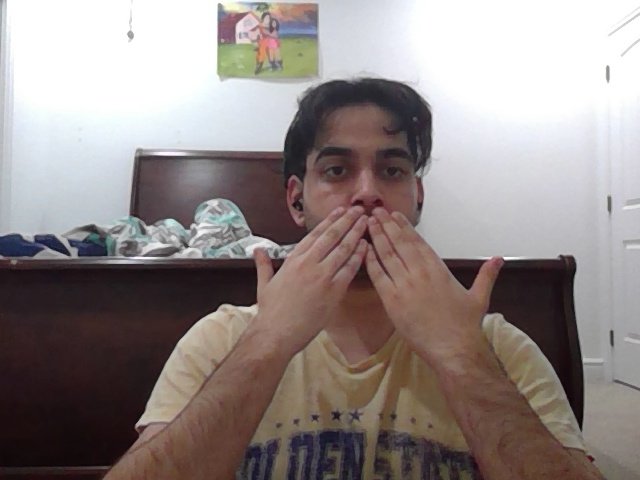Thank you: (254, 204, 504, 362)
